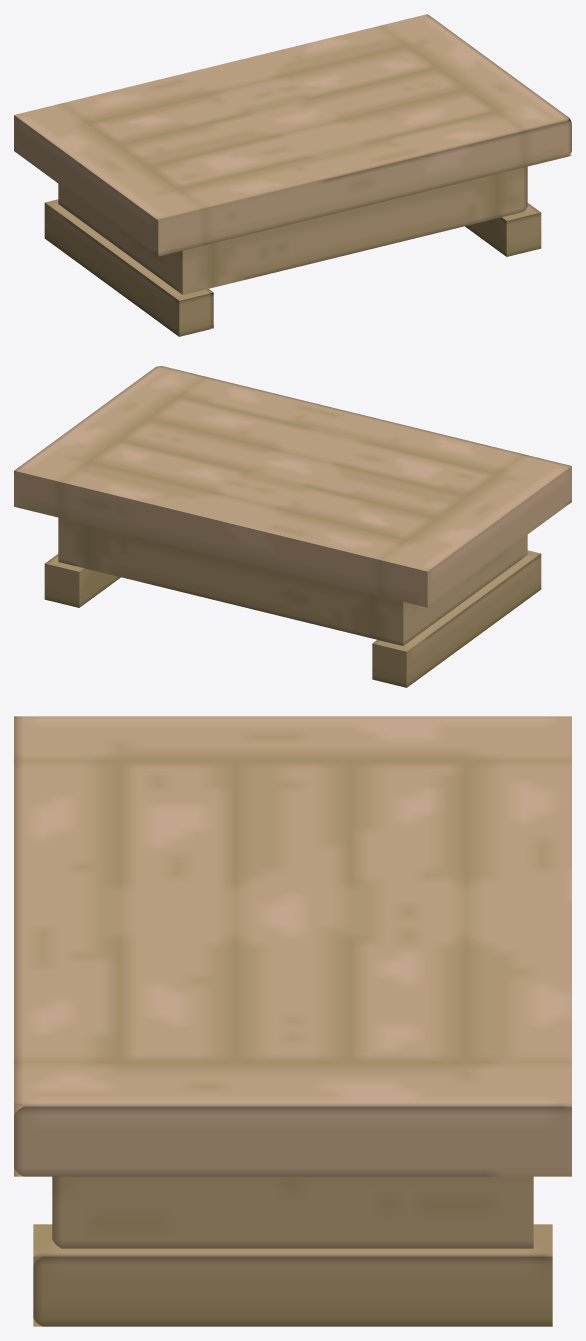
File: PicnicTable.fbx
3 renders of one model, top to bottom at view 1: azimuth 30°, elevation 25°; view 2: azimuth 150°, elevation 25°; view 3: azimuth 270°, elevation 25°, orthographic. The views are drawn at different scales.
Visible parts, largest first — view 1: top, bottom, leg_1, leg; view 2: top, bottom, leg_1, leg; view 3: top, leg, bottom.
Part boxes in pixels (box(x1,y1,x2,y2)): top: box(14, 14, 571, 256); bottom: box(58, 166, 527, 294); leg_1: box(44, 199, 213, 336); leg: box(465, 203, 541, 256); top: box(14, 366, 571, 607); bottom: box(58, 517, 527, 645); leg_1: box(372, 550, 541, 687); leg: box(44, 554, 120, 607); top: box(14, 716, 571, 1176); leg: box(33, 1224, 552, 1326); bottom: box(52, 1176, 533, 1248).
Size of the model in its own units: 150 by 43.75 by 90.62.
Materials: 1 (1 with a texture image).
